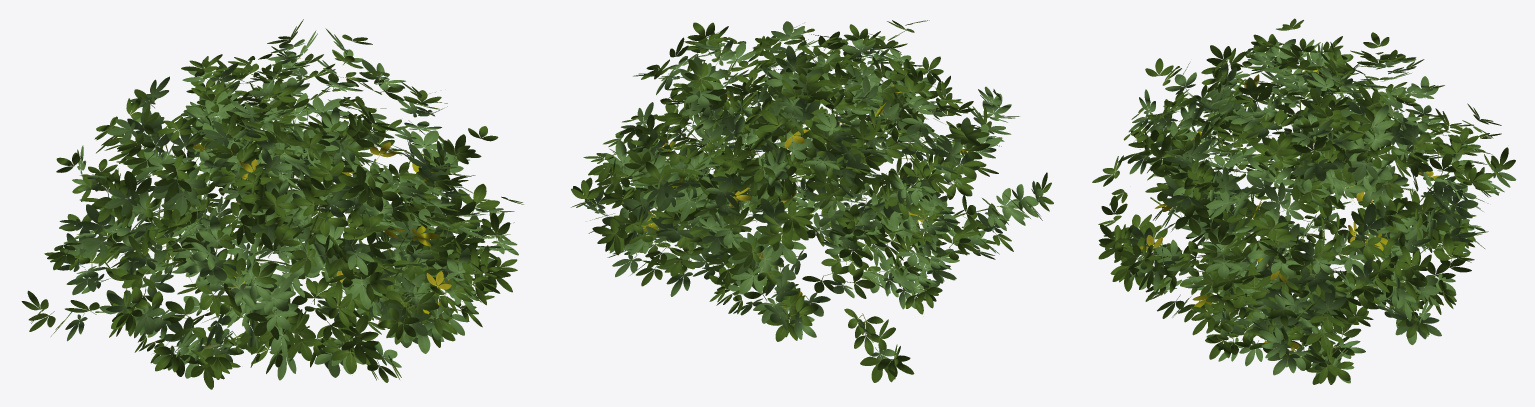
The model's file is arbuste_mobile.glb.
3 views of the same model, side by side, from view 1: azimuth 30°, elevation 25°; view 2: azimuth 150°, elevation 25°; view 3: azimuth 270°, elevation 25° (orthographic). The views are drawn at different scales.
Parts seen in each view (by area): view 1: Choisya_ternata_HD_Choisya leaf 01_0, Choisya_ternata_HD_Choisya leaf 02 back_0, Choisya_ternata_HD_Choisya leaf 01 dry 1_0, Choisya_ternata_HD_Choisya bark_0, Choisya_ternata_HD_Choisya leaf 02 dry 1 back_0; view 2: Choisya_ternata_HD_Choisya leaf 01_0, Choisya_ternata_HD_Choisya leaf 02 back_0, Choisya_ternata_HD_Choisya bark_0, Choisya_ternata_HD_Choisya leaf 01 dry 1_0; view 3: Choisya_ternata_HD_Choisya leaf 01_0, Choisya_ternata_HD_Choisya leaf 02 back_0, Choisya_ternata_HD_Choisya leaf 01 dry 1_0, Choisya_ternata_HD_Choisya leaf 02 dry 1 back_0, Choisya_ternata_HD_Choisya bark_0.
Part boxes in pixels (x1,y1,x2,y2): Choisya_ternata_HD_Choisya leaf 01_0: (21,19,523,389); Choisya_ternata_HD_Choisya leaf 02 back_0: (57,28,518,380); Choisya_ternata_HD_Choisya leaf 01 dry 1_0: (144,142,456,323); Choisya_ternata_HD_Choisya bark_0: (95,104,445,348); Choisya_ternata_HD_Choisya leaf 02 dry 1 back_0: (192,143,471,315); Choisya_ternata_HD_Choisya leaf 01_0: (571,20,1053,382); Choisya_ternata_HD_Choisya leaf 02 back_0: (581,21,1045,365); Choisya_ternata_HD_Choisya bark_0: (649,89,990,341); Choisya_ternata_HD_Choisya leaf 01 dry 1_0: (657,84,937,267); Choisya_ternata_HD_Choisya leaf 01_0: (1092,18,1515,384); Choisya_ternata_HD_Choisya leaf 02 back_0: (1127,39,1516,383); Choisya_ternata_HD_Choisya leaf 01 dry 1_0: (1139,74,1442,357); Choisya_ternata_HD_Choisya leaf 02 dry 1 back_0: (1155,63,1392,367); Choisya_ternata_HD_Choisya bark_0: (1150,94,1449,348).
Bounding box in the file's own units: 1.75 × 1.04 × 1.51.
Materials: 6 (5 with a texture image).
